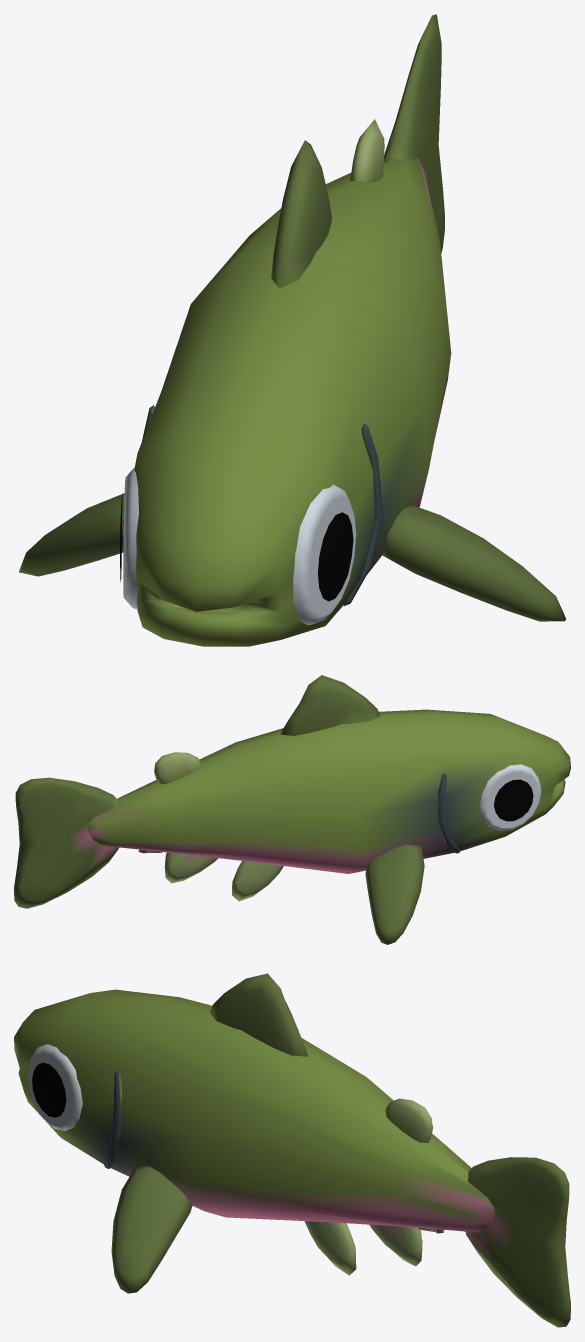
Rendered from Salmon.glb.
The picture shows the model from 3 angles, top to bottom: view 1: azimuth 30°, elevation 25°; view 2: azimuth 150°, elevation 25°; view 3: azimuth 270°, elevation 25°; orthographic projection. The views are drawn at different scales.
Parts seen in each view (by area): view 1: 143; view 2: 143; view 3: 143.
Boxes of the visible parts, box(x1,y1,x2,y2) form: 143: box(19, 14, 565, 646); 143: box(14, 675, 570, 944); 143: box(14, 973, 570, 1327).
Bounding box in the file's own units: 0.7334 × 0.4392 × 0.8092.
